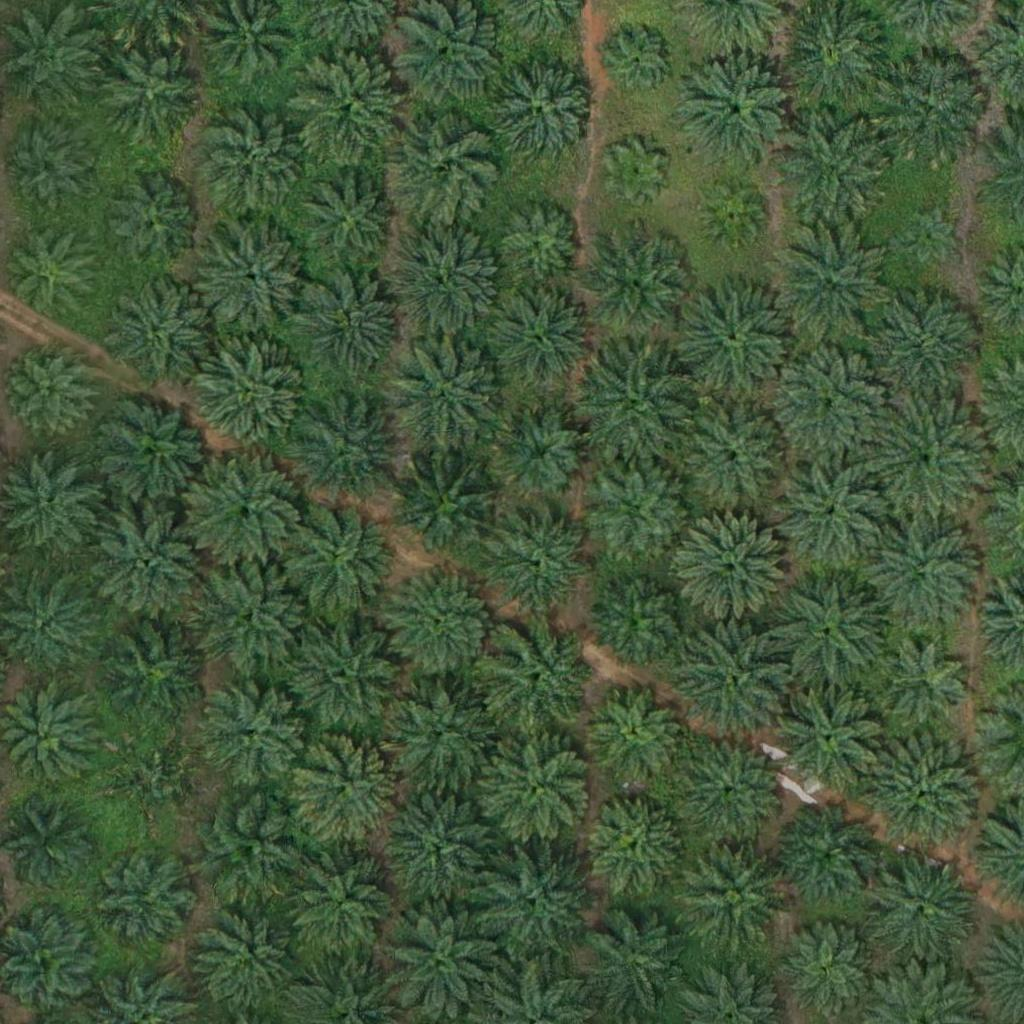Kelapa_Sawit: (393, 449, 506, 563), (101, 274, 214, 388), (278, 501, 391, 615), (385, 567, 498, 681), (483, 620, 596, 734), (480, 731, 593, 845), (581, 903, 694, 1017), (771, 223, 884, 336), (775, 346, 888, 459), (680, 57, 793, 170), (677, 283, 790, 396), (385, 112, 498, 225), (389, 225, 502, 338), (390, 340, 503, 453), (290, 50, 403, 163), (292, 170, 405, 283), (93, 395, 206, 508), (92, 510, 205, 623), (95, 616, 208, 729), (193, 798, 306, 911), (381, 680, 494, 793), (677, 513, 790, 626), (770, 458, 883, 571), (773, 572, 886, 685), (774, 677, 887, 790), (868, 737, 981, 850), (865, 853, 978, 966), (478, 847, 591, 960), (874, 56, 986, 170), (288, 389, 400, 503), (198, 220, 310, 334), (194, 341, 306, 455), (675, 838, 787, 952), (869, 288, 981, 401), (871, 401, 983, 514), (780, 112, 892, 225), (677, 402, 789, 515), (581, 229, 693, 342), (580, 351, 692, 464), (489, 56, 601, 169), (483, 287, 595, 400), (293, 272, 405, 385), (199, 104, 311, 217), (189, 456, 301, 569), (194, 560, 306, 673), (195, 678, 307, 791), (290, 619, 402, 732), (291, 734, 403, 847), (388, 787, 500, 900), (675, 626, 787, 739), (673, 736, 785, 849), (865, 519, 977, 632), (386, 906, 498, 1019), (286, 850, 398, 963), (491, 404, 591, 505), (591, 459, 691, 560), (592, 569, 692, 670), (776, 804, 876, 905), (876, 637, 976, 738), (193, 909, 293, 1010), (100, 848, 200, 949), (99, 47, 199, 147), (100, 177, 200, 277), (494, 509, 594, 609), (590, 684, 690, 784), (586, 796, 686, 896), (777, 923, 877, 1023), (495, 197, 583, 285), (116, 740, 203, 829), (1, 128, 88, 216), (8, 347, 95, 435), (701, 184, 764, 247), (609, 30, 672, 93), (604, 141, 667, 204), (898, 204, 960, 267)
